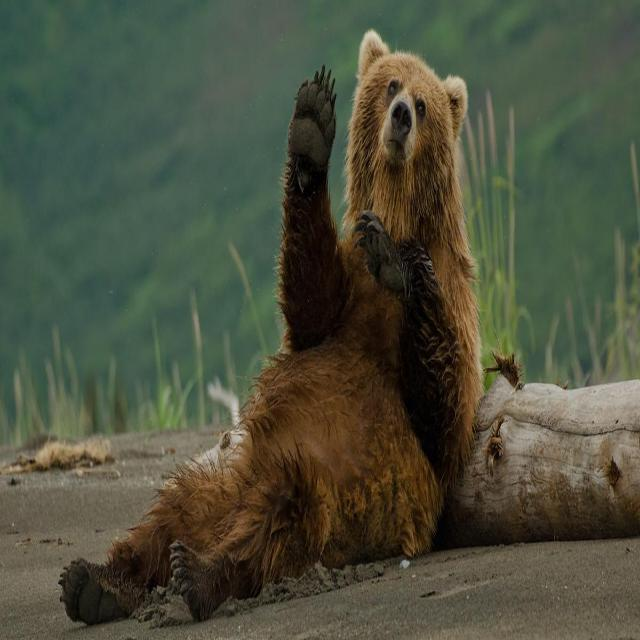Bear: (58, 33, 483, 625)
